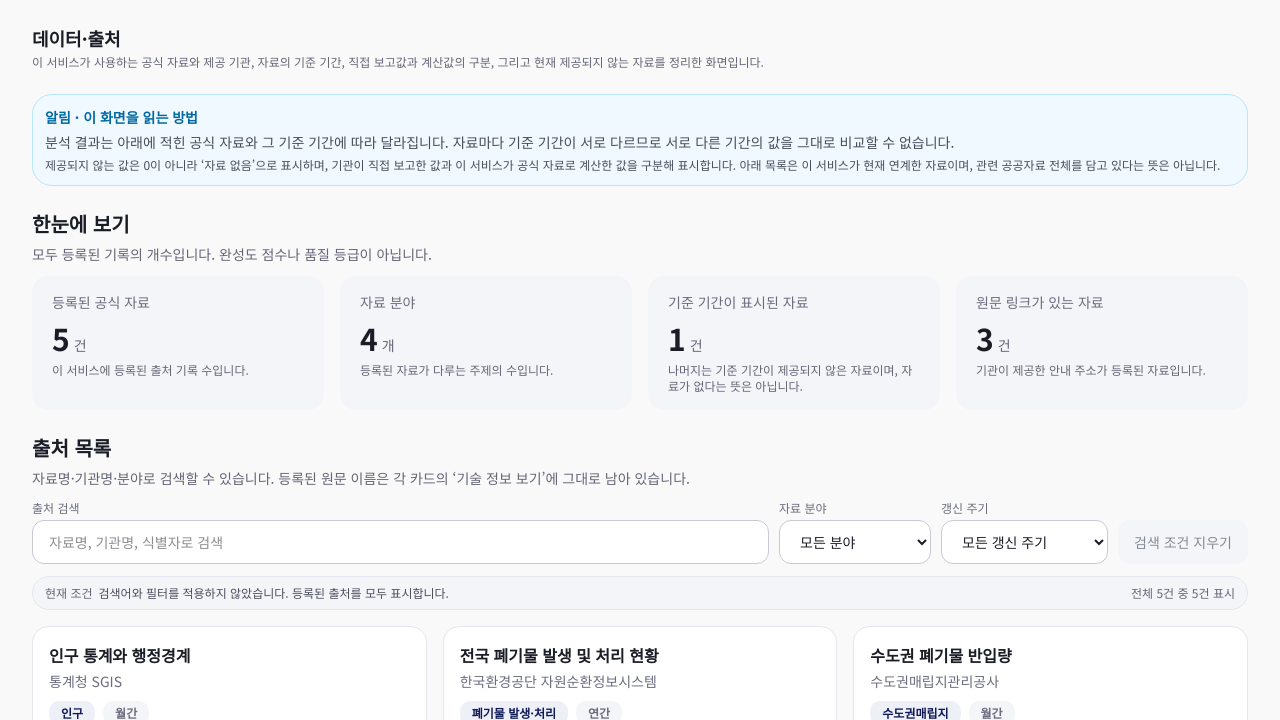
Test: source search › restores the catalog from the permanent clear-all control
Type "존재하지않는자료명" into the search field with test id "transparency-search".
click(400, 542); type("존재하지않는자료명")  # box [32,520,769,564]
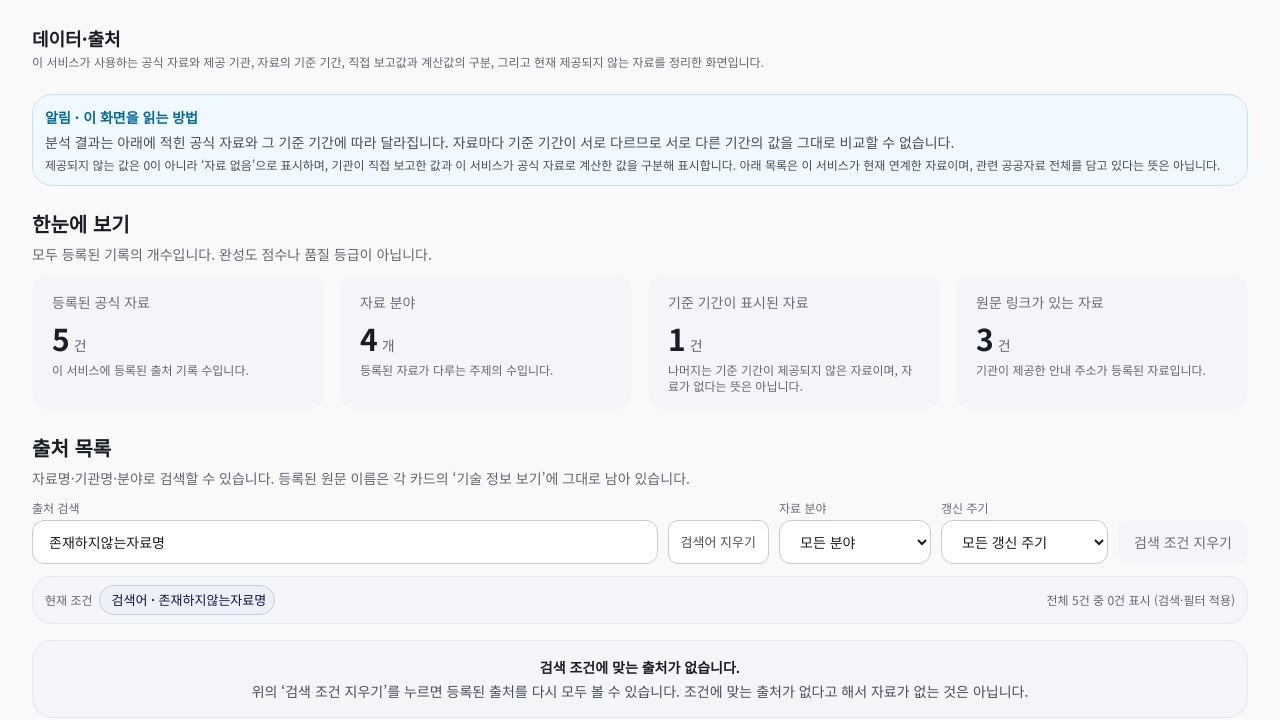
Click the button with test id "transparency-clear-filters".
click(1183, 542)  # box [1118,520,1248,564]
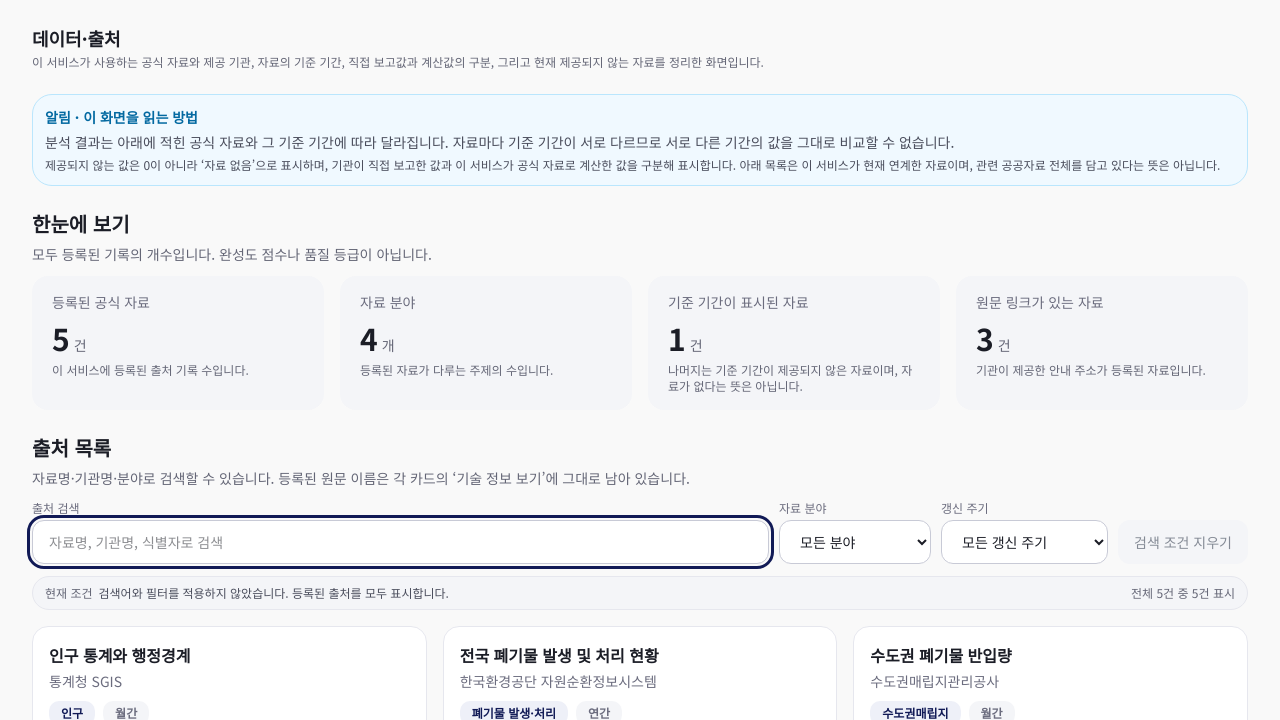
Expected: the number of list items with test id "transparency-source-card" is 5
